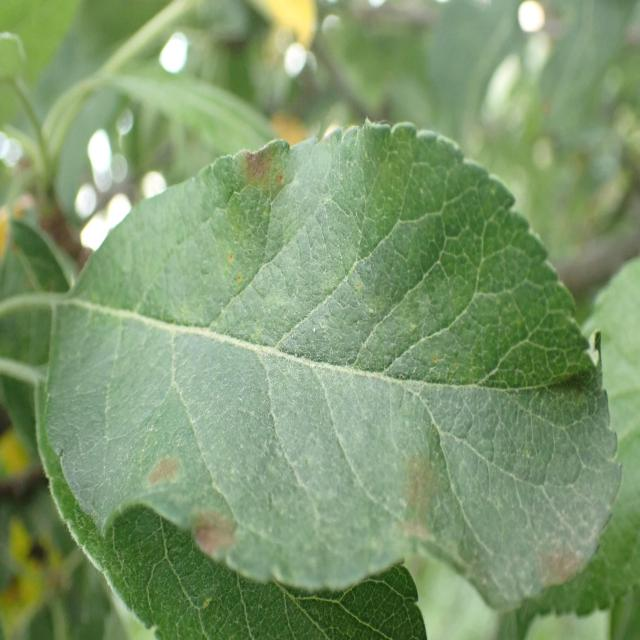scab: (91, 122, 604, 594)
